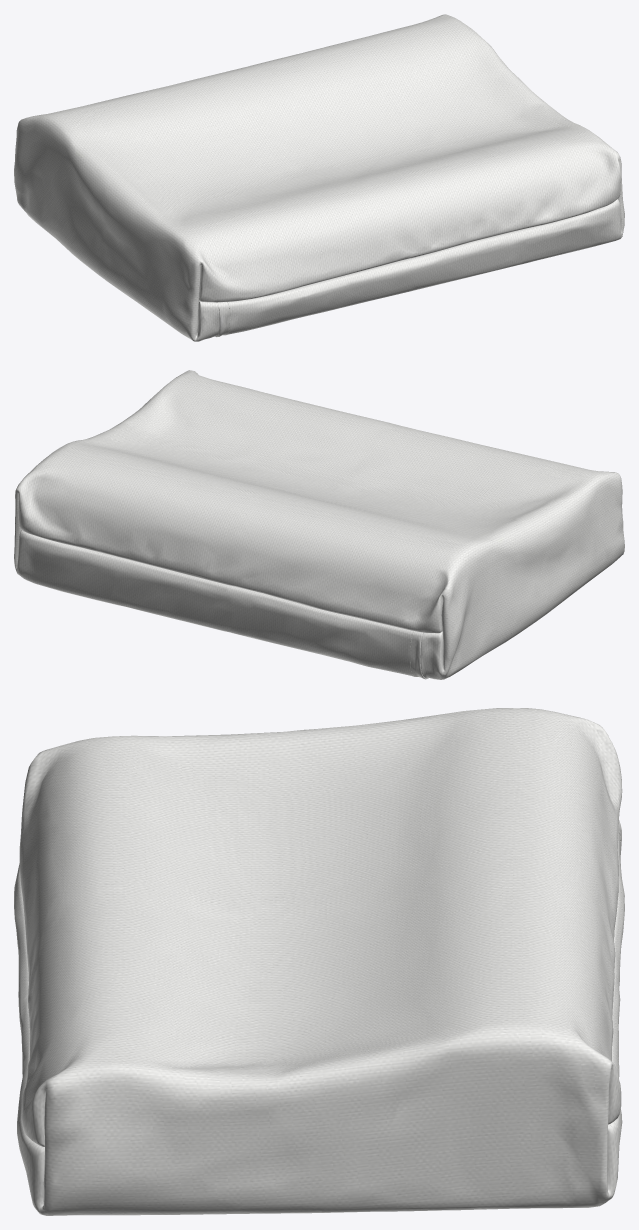
The model's file is papegojbuske_poduszka_ergonomiczna_sen_bok_plecy_00552845.glb.
The picture shows the model from 3 angles, top to bottom: view 1: azimuth 30°, elevation 25°; view 2: azimuth 150°, elevation 25°; view 3: azimuth 270°, elevation 25°; orthographic projection. The views are drawn at different scales.
Parts seen in each view (by area): view 1: papegojbuske_poduszka_ergonomiczna_sen_bok_plecy_00552845; view 2: papegojbuske_poduszka_ergonomiczna_sen_bok_plecy_00552845; view 3: papegojbuske_poduszka_ergonomiczna_sen_bok_plecy_00552845.
Boxes of the visible parts, x1,y1,x2,y2 form: papegojbuske_poduszka_ergonomiczna_sen_bok_plecy_00552845: (14,14,624,341); papegojbuske_poduszka_ergonomiczna_sen_bok_plecy_00552845: (14,370,624,679); papegojbuske_poduszka_ergonomiczna_sen_bok_plecy_00552845: (14,708,624,1215).
Bounding box in the file's own units: 0.4737 × 0.1154 × 0.3484.
Materials: 1 (1 with a texture image).
